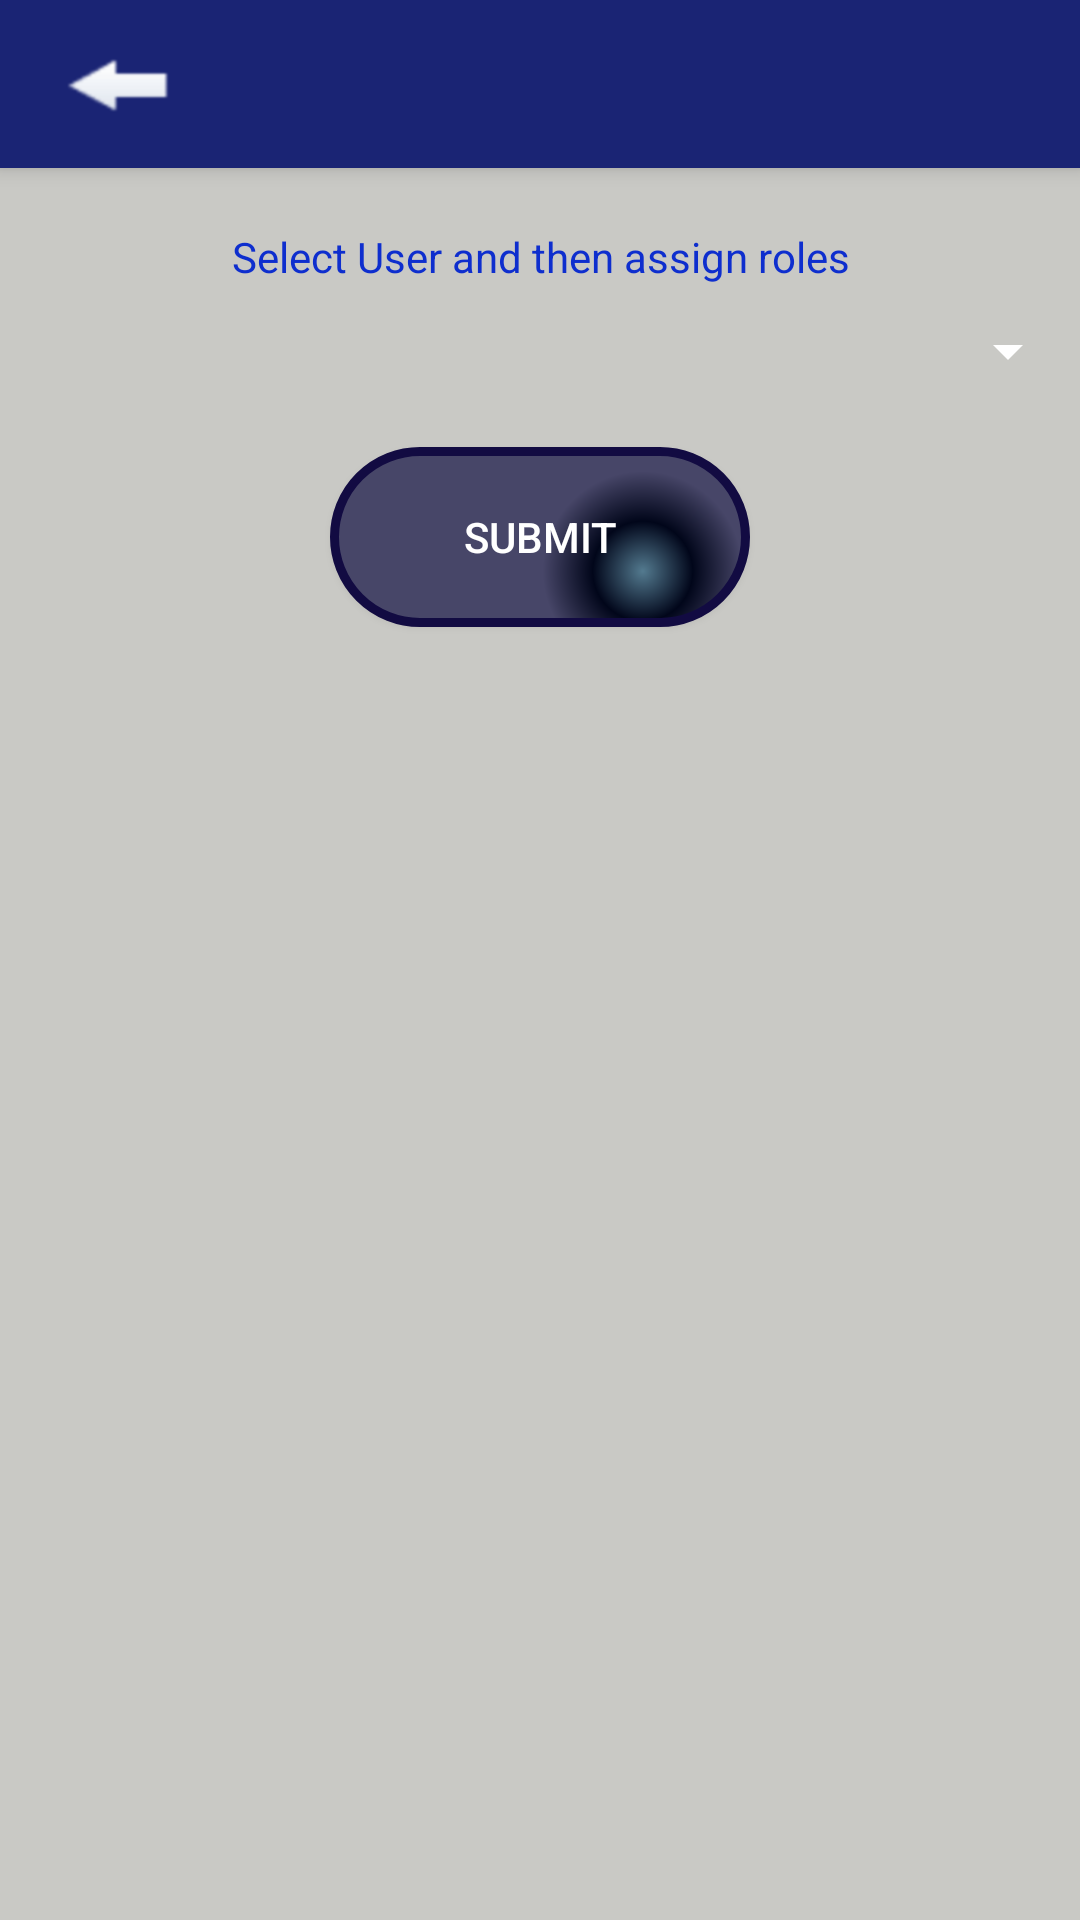

Icons on this 1080x1920 Android screen, each with its box as (x1, y1, x2, y2):
backbutton: (68, 60, 168, 111)
